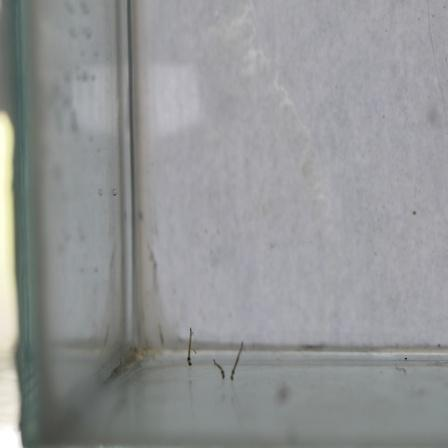Jentik-Nyamuk: (227, 337, 247, 385), (183, 323, 198, 369), (211, 356, 228, 385)
